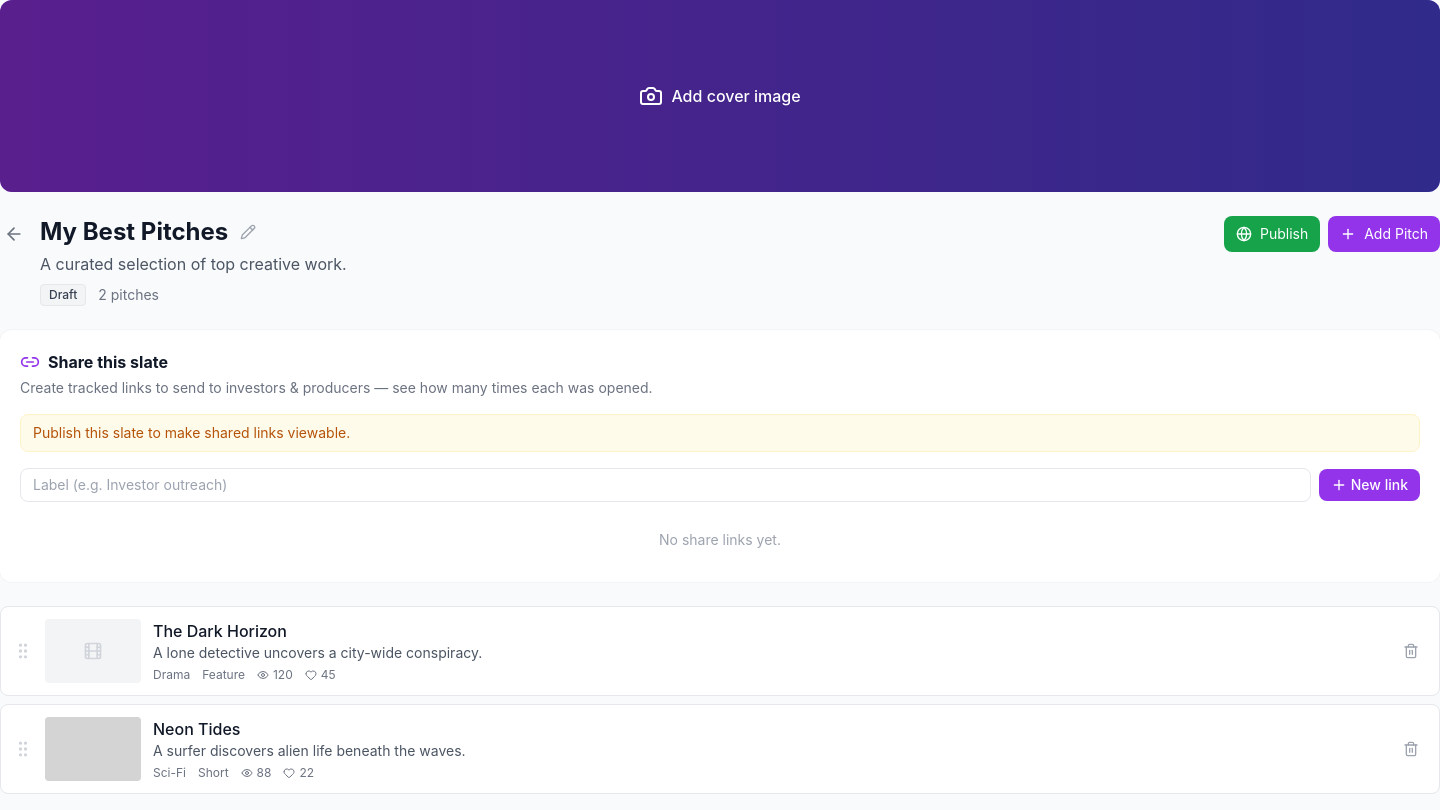
Scenario: CreatorSlateDetail › opens Add Pitch modal when "Add Pitch" button is clicked
This screenshot has width=1440, height=810.
Click the button "Add Pitch".
click(1384, 234)  # box [1328,216,1439,252]
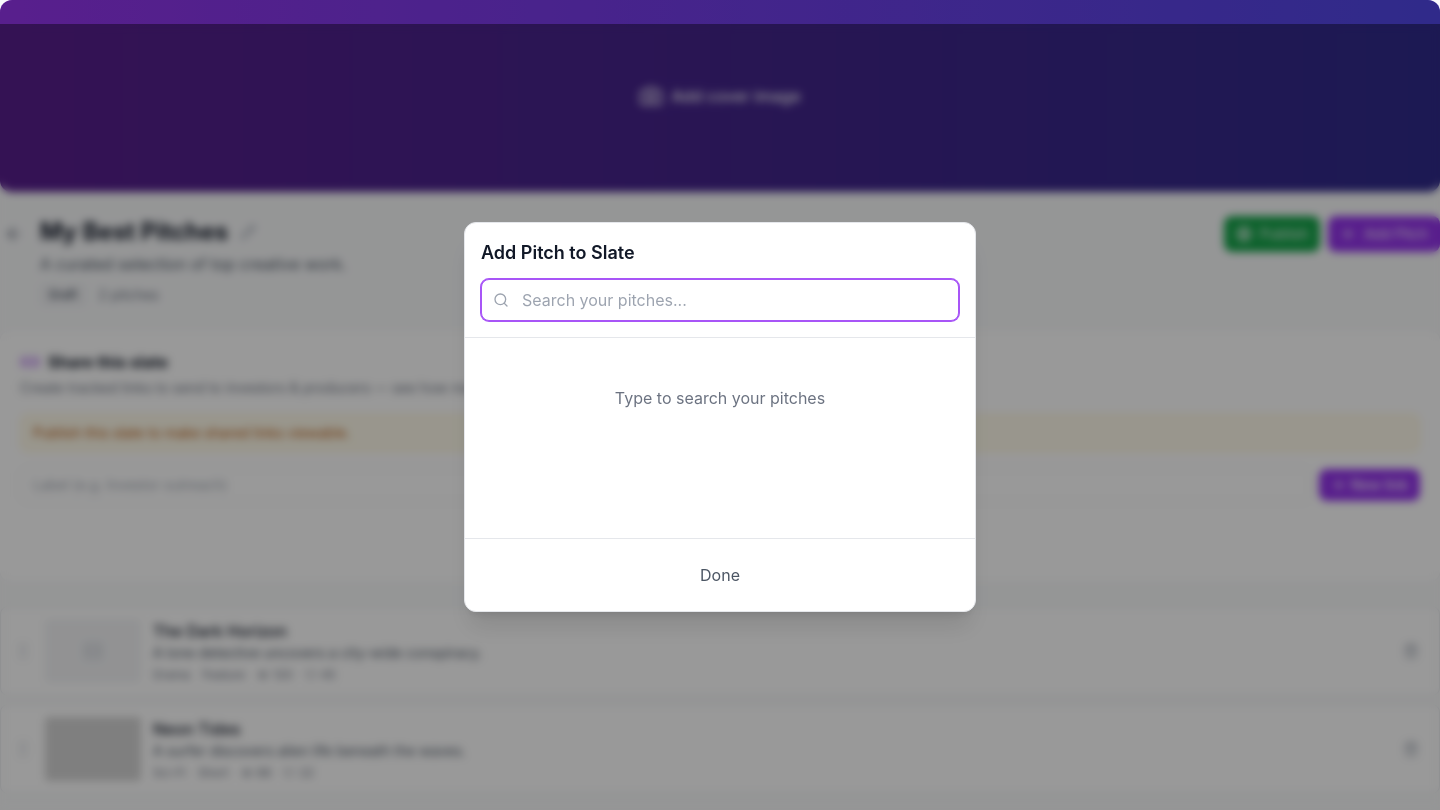
expect the heading "Add Pitch to Slate" is shown: met, box [481,242,635,263]
